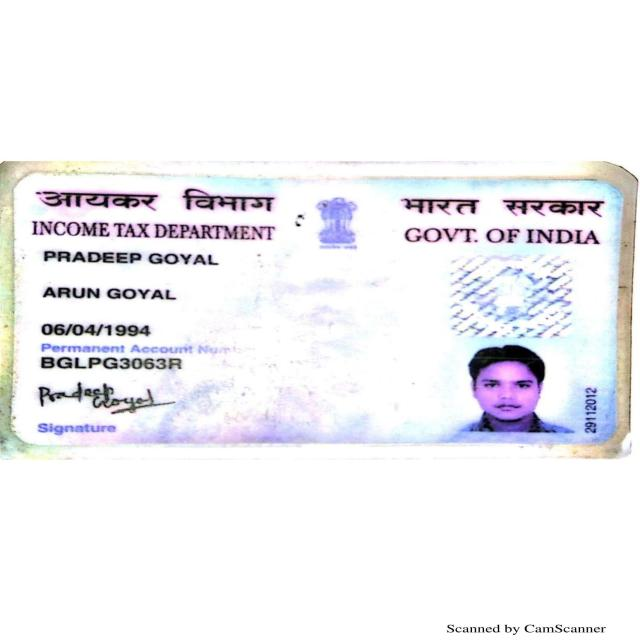pan_card: (14, 178, 613, 442)
